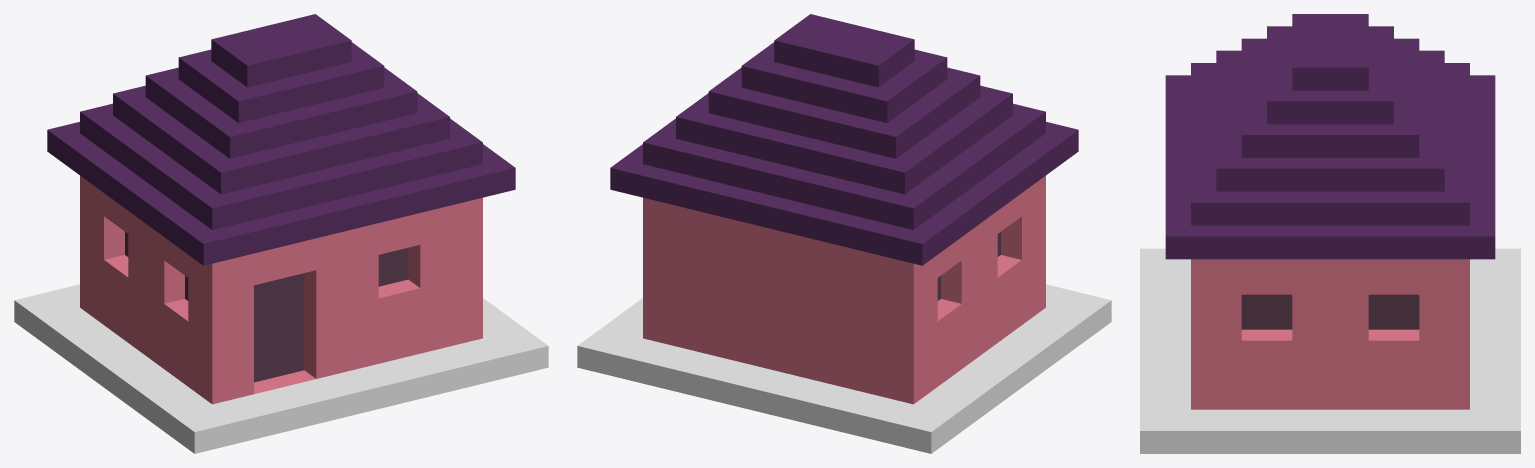
Rendered from building4.obj.
3 views of the same model, side by side, from view 1: azimuth 30°, elevation 25°; view 2: azimuth 150°, elevation 25°; view 3: azimuth 270°, elevation 25° (orthographic). The views are drawn at different scales.
Bounding box in the file's own units: 17 × 14 × 15.
1 material, 1 textured.
